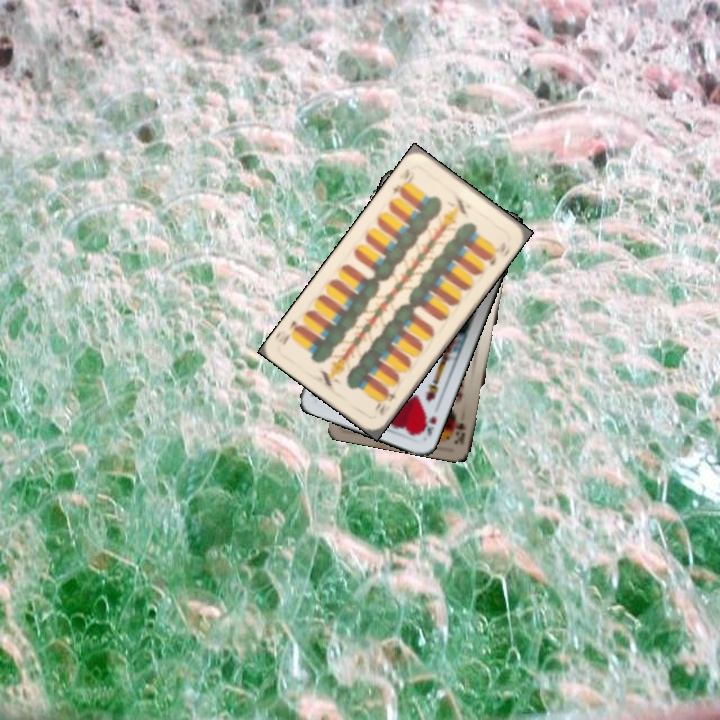E10: (370, 386, 399, 418), (388, 164, 412, 198)
HK: (415, 411, 439, 439)
SK: (450, 419, 469, 447)
